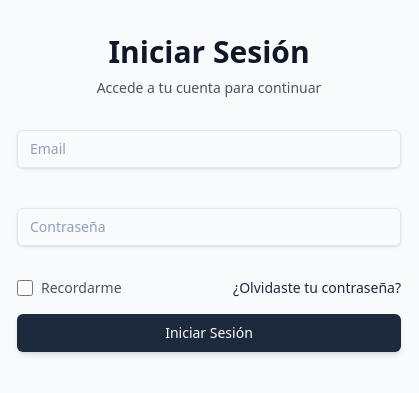
Test: LoginForm Component › Form validation (RED PHASE - Not implemented) › should show error if email is empty on submit
// User attempts to submit without filling email
Click the button "Iniciar Sesión" at (209, 333), box [17,314,401,352]
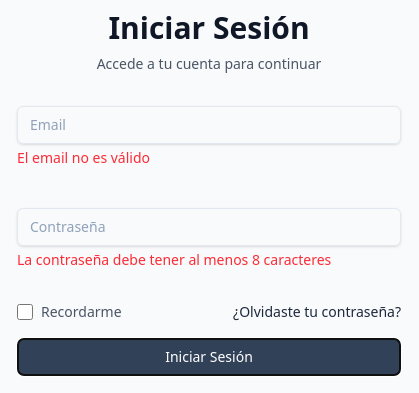
expect the text "El email no es válido" is shown: met, box [17,148,150,167]
